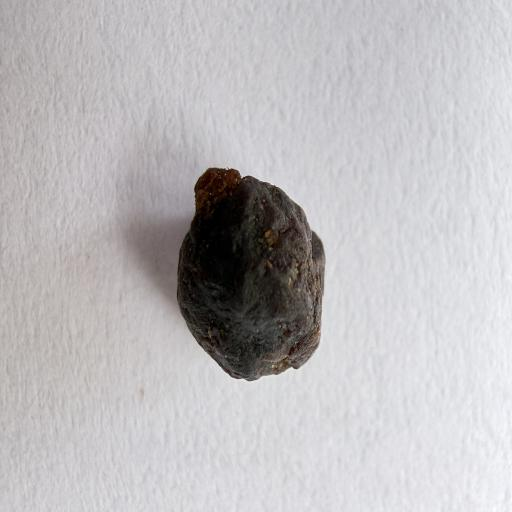Black_pepper: (177, 122, 349, 427)
